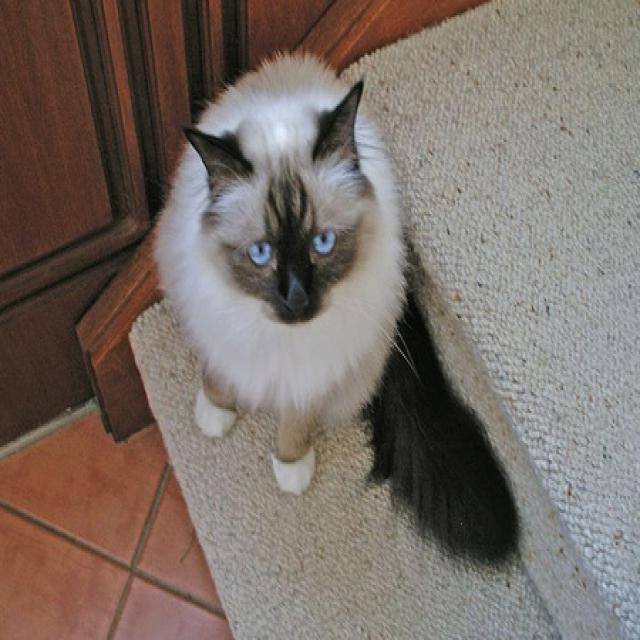Birman: (152, 46, 525, 566)
